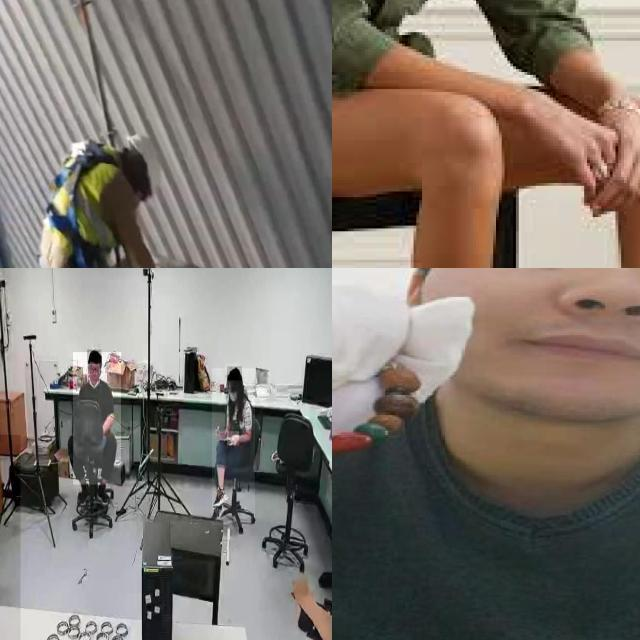Harness: (46, 142, 116, 268)
No_Glasses: (486, 268, 640, 312)
face_mask: (224, 386, 238, 404)
face_nomask: (464, 268, 640, 409), (87, 363, 101, 383)
hand_glove: (332, 284, 481, 486)
hand_noglove: (227, 432, 239, 446), (219, 427, 229, 440)
head_nohelmet: (227, 366, 243, 382), (87, 349, 102, 364)
person: (332, 268, 640, 640), (212, 368, 256, 526), (73, 352, 121, 486)
shoes: (95, 479, 112, 508), (212, 480, 228, 510), (75, 480, 91, 508)
